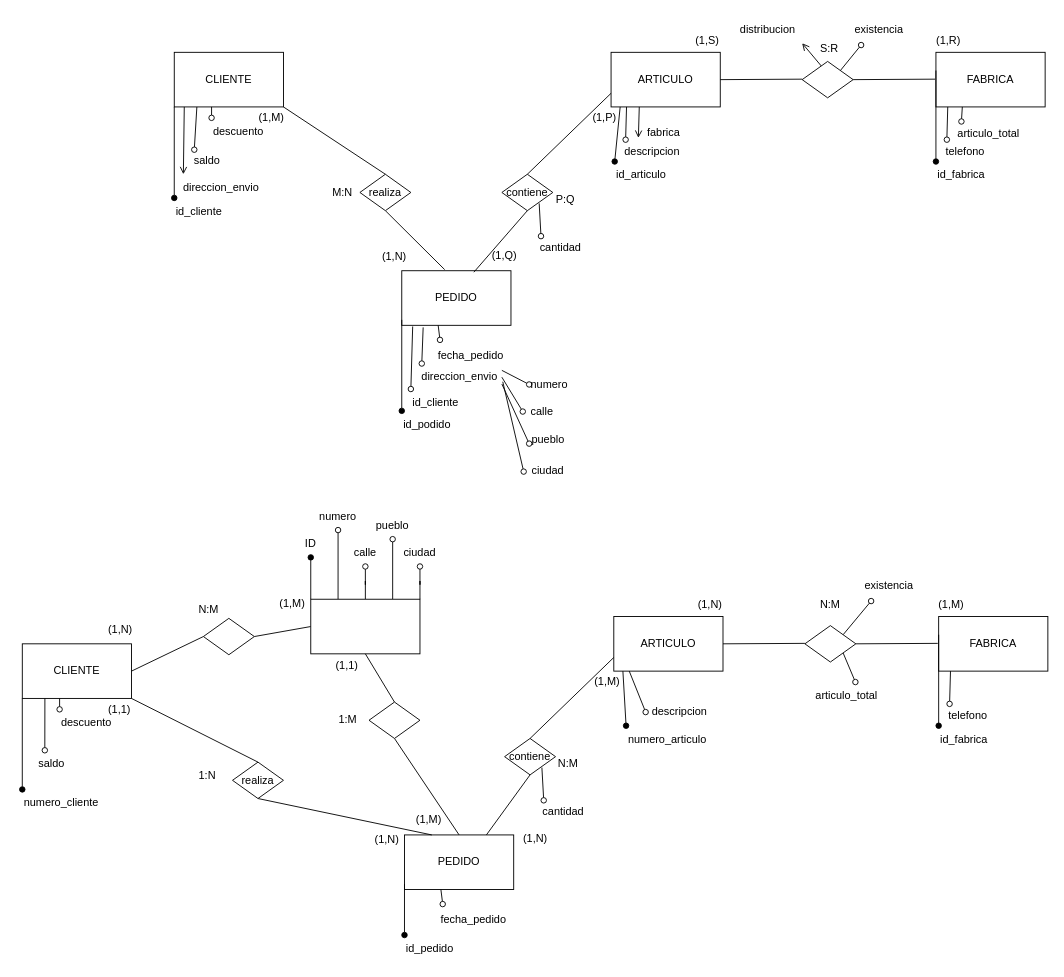
This 1064x977 diagram has some shape labels left out. The box of each missing label's shape, as (x1, y1, x2, y2) in pixels:
DIRECCION: (310, 598, 420, 654)
distribuye: (804, 625, 856, 662)
envia: (368, 701, 420, 738)
provee: (801, 61, 853, 98)
tiene: (202, 617, 254, 655)
